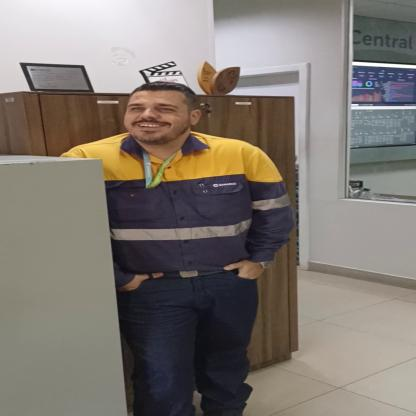Operacional: (59, 136, 302, 274)
